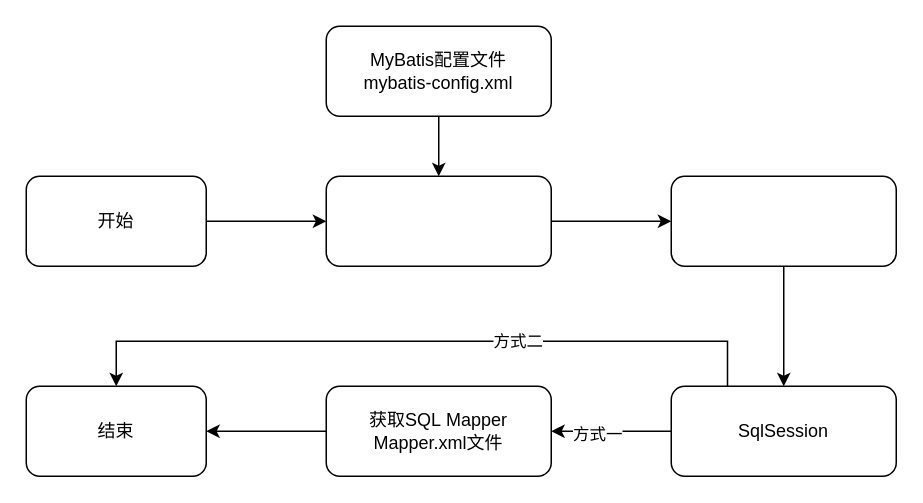
Image size: 923x503. Some labels were removed from this diagram. Each missing label, with the centre of its shape:
SqlSessionFactoryBuilder创建工厂: point 438,220
SqlSessionFactory工厂: point 783,220
